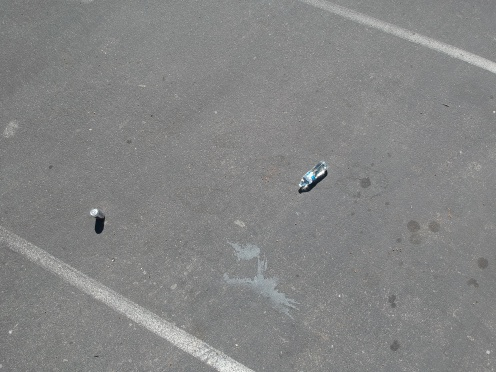bottle: (291, 158, 330, 195)
can: (86, 205, 108, 221)
